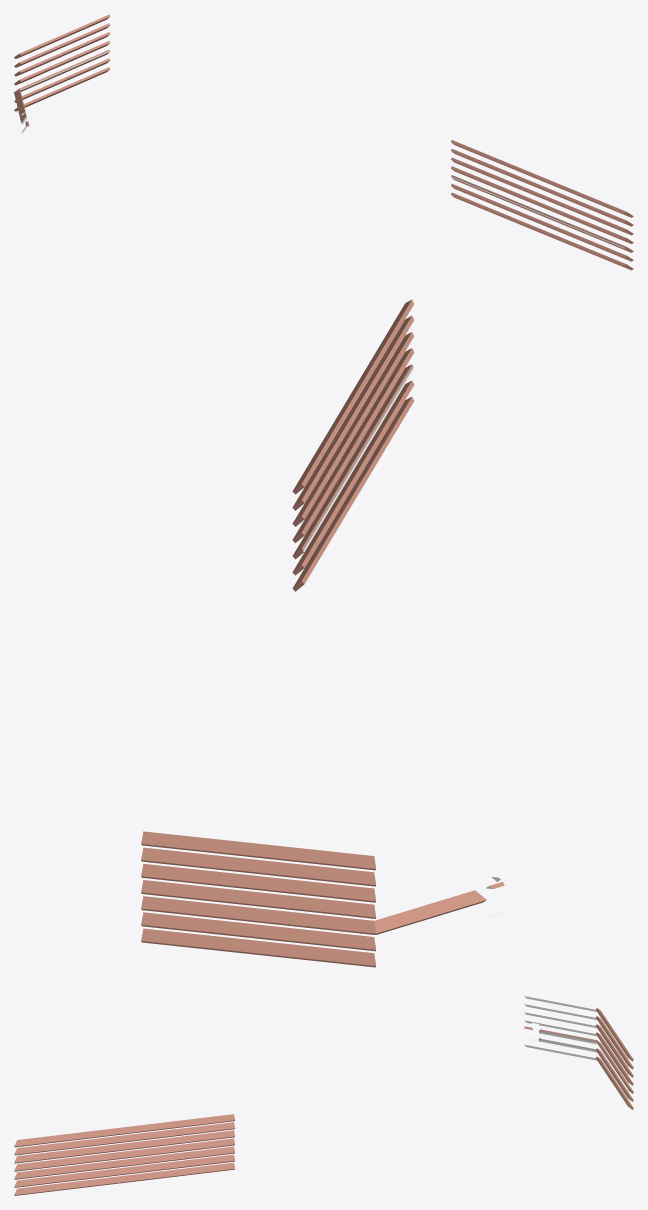
3 views of the same model, one above another, from view 1: azimuth 30°, elevation 25°; view 2: azimuth 150°, elevation 25°; view 3: azimuth 270°, elevation 25° (orthographic). The views are drawn at different scales.
Parts seen in each view (by area): view 1: 2848, 2849, 2841, 2840, 2843, 2842, 2846, 2833, 2831, 2832, 2830, 2838 (+2 smaller); view 2: 2836, 2830, 2832, 2839, 2833, 2838, 2831, 2843, 2842, 2848, 2841, 2849 (+3 smaller); view 3: 2841, 2842, 2846, 2843, 2840, 2848, 2849.
Boxes of the visible parts, box(x1,y1,x2,y2) form: 2848: box(451, 184, 633, 261); 2849: box(451, 192, 633, 270); 2841: box(451, 149, 633, 226); 2840: box(451, 140, 633, 217); 2843: box(451, 166, 633, 243); 2842: box(451, 157, 633, 235); 2846: box(451, 175, 633, 252); 2833: box(14, 41, 110, 85); 2831: box(14, 23, 110, 67); 2832: box(14, 32, 109, 76); 2830: box(14, 14, 110, 58); 2838: box(14, 58, 110, 102); 2836: box(141, 896, 376, 934); 2830: box(141, 831, 376, 870); 2832: box(141, 863, 376, 902); 2839: box(141, 928, 375, 967); 2833: box(141, 880, 376, 918); 2838: box(141, 912, 376, 951); 2831: box(141, 847, 375, 886); 2843: box(292, 348, 414, 542); 2842: box(292, 332, 414, 526); 2848: box(292, 380, 414, 575); 2841: box(292, 316, 414, 510); 2849: box(292, 397, 413, 591); 2841: box(14, 1122, 235, 1155); 2842: box(14, 1130, 234, 1163); 2846: box(14, 1146, 234, 1179); 2843: box(14, 1138, 234, 1171); 2840: box(14, 1114, 234, 1147); 2848: box(14, 1154, 234, 1187); 2849: box(14, 1162, 234, 1195).
Bounding box in the file's own units: 7.94 × 1.34 × 13.89.
